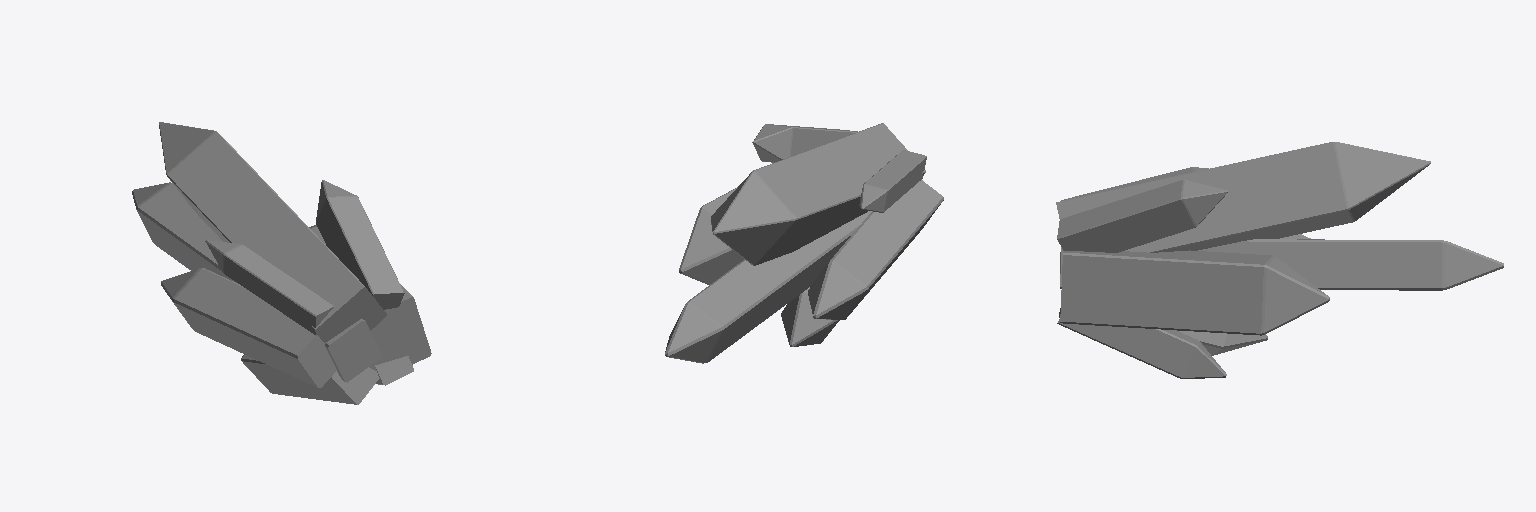
The model's file is crystal.obj.
The picture shows the model from 3 angles: view 1: azimuth 30°, elevation 25°; view 2: azimuth 150°, elevation 25°; view 3: azimuth 270°, elevation 25°; orthographic projection.
Parts seen in each view (by area): view 1: CrystalCrack; view 2: CrystalCrack; view 3: CrystalCrack.
Part boxes in pixels (x1,y1,x2,y2): CrystalCrack: (132,122,431,404); CrystalCrack: (665,123,943,363); CrystalCrack: (1056,142,1503,378).
Bounding box in the file's own units: 23.69 × 26.86 × 50.46.